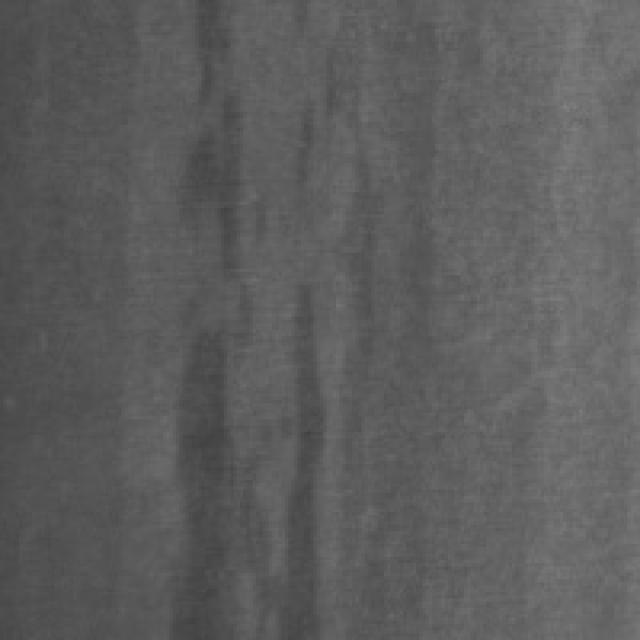inclusion: (166, 0, 314, 634), (172, 0, 265, 326)
